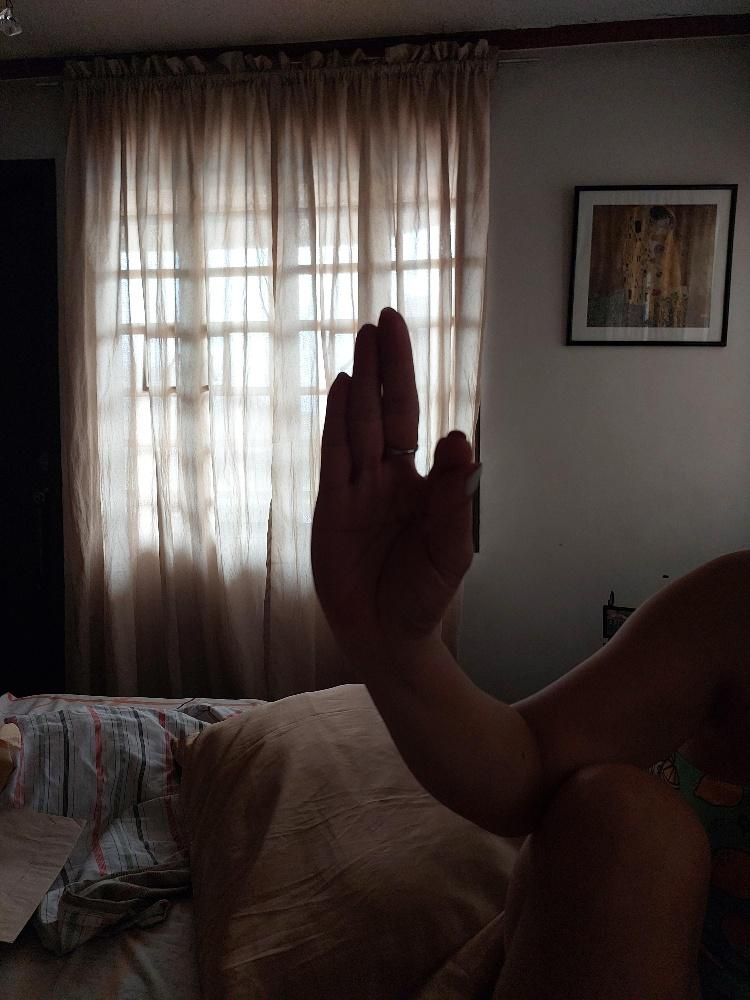f: (304, 299, 488, 660)
